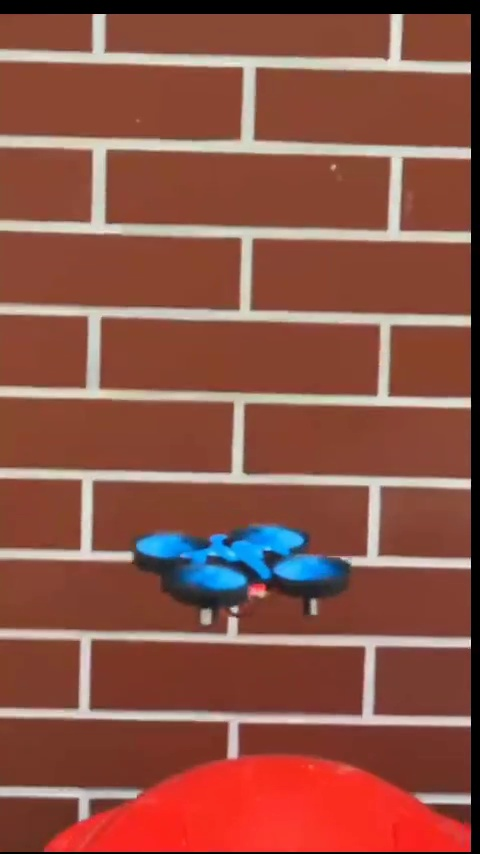drone: (141, 523, 348, 631)
